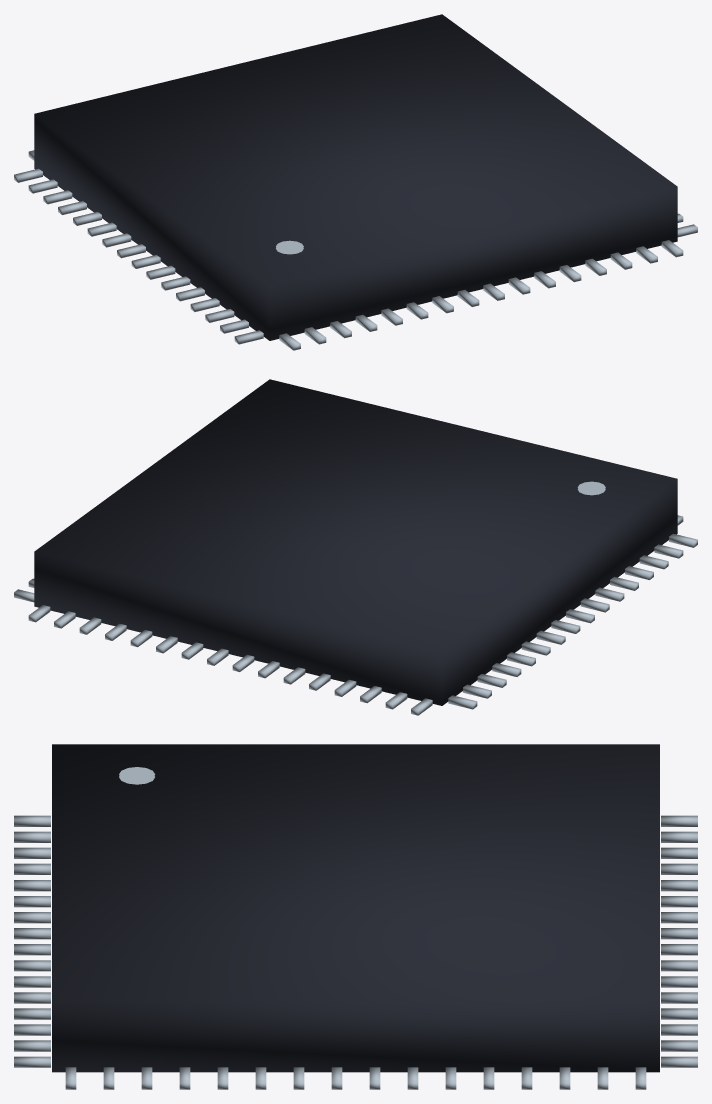
3 views of the same model, one above another, from view 1: azimuth 30°, elevation 25°; view 2: azimuth 150°, elevation 25°; view 3: azimuth 270°, elevation 25° (orthographic). The views are drawn at different scales.
Visible parts, largest first — view 1: L105_U2_chip, L105_U2_silver; view 2: L105_U2_chip, L105_U2_silver; view 3: L105_U2_chip, L105_U2_silver.
Boxes of the visible parts, x1,y1,x2,y2 form: L105_U2_chip: (34,14,677,340); L105_U2_silver: (14,150,697,350); L105_U2_chip: (34,379,677,705); L105_U2_silver: (14,481,697,715); L105_U2_chip: (52,744,659,1072); L105_U2_silver: (14,767,697,1089).
Bounding box in the file's own units: 0.0158 × 0.00192 × 0.0158.
